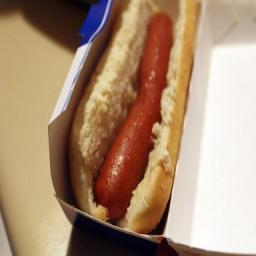hotdog: (94, 128, 136, 224), (136, 44, 160, 150), (124, 98, 149, 194), (147, 8, 171, 98)
